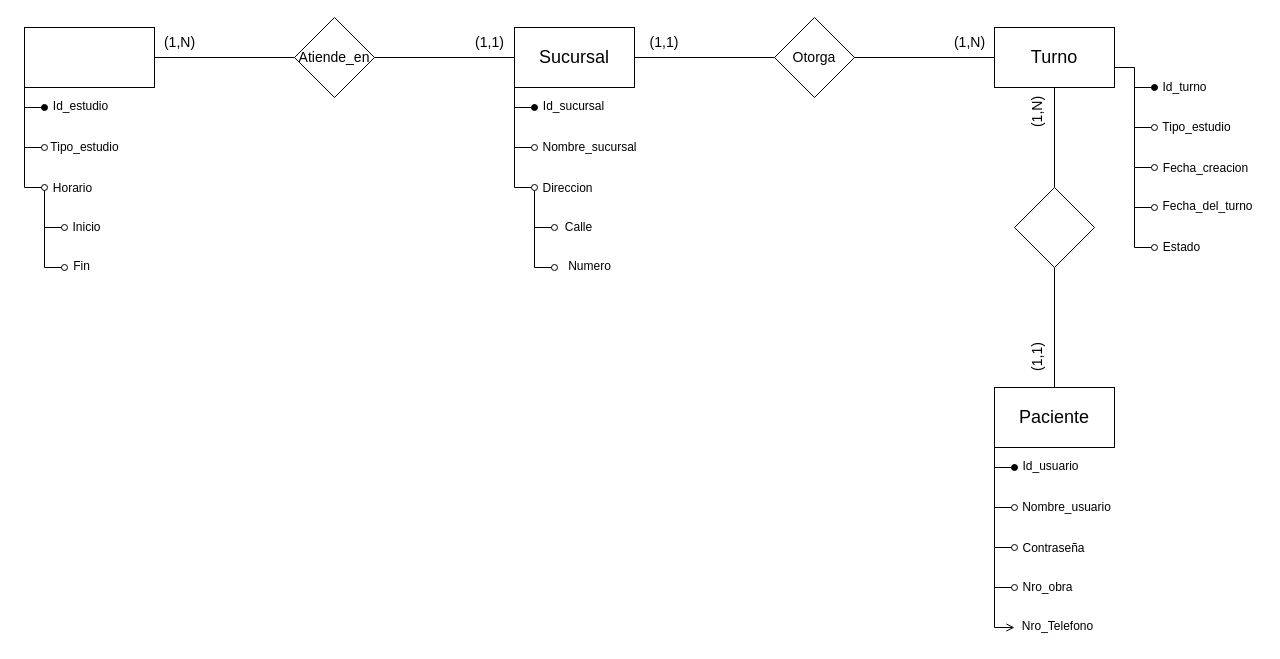
This 1280x659 diagram has some shape labels left out. The centre of each missing label's shape, as x and y in pixels:
"Franja_Horaria" goes at (89,57).
"Solicita" goes at (1054,227).
